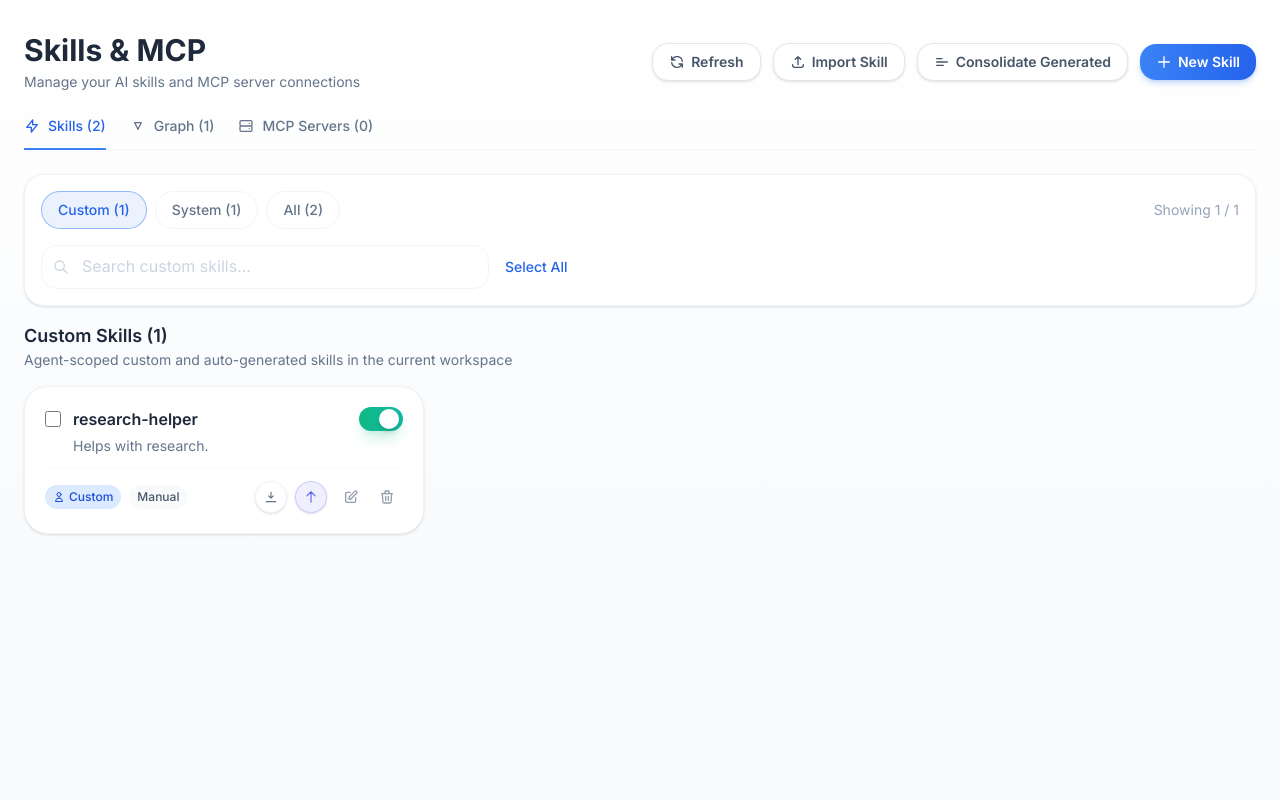
Test: SkillsPage › shows the skill storage path and source hint in the detail modal
Click the heading "research-helper" at [135, 419], box left=73, top=407, right=198, bottom=432
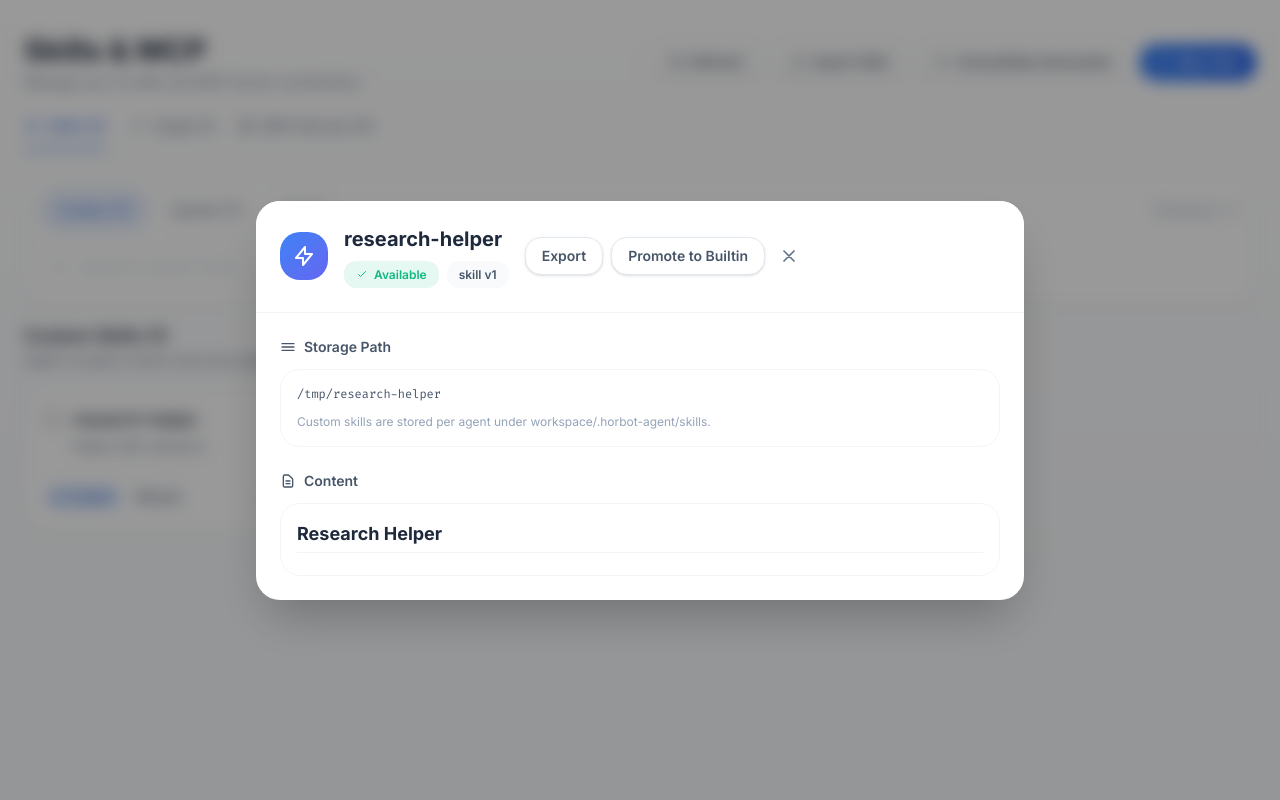
Now the heading "Storage Path" is shown, box left=280, top=338, right=391, bottom=354
Now the text "/tmp/research-helper" is shown, box left=297, top=386, right=441, bottom=402
Now the text "Custom skills are stored per agent under workspace/.horbot-agent/skills." is shown, box left=297, top=414, right=711, bottom=428
